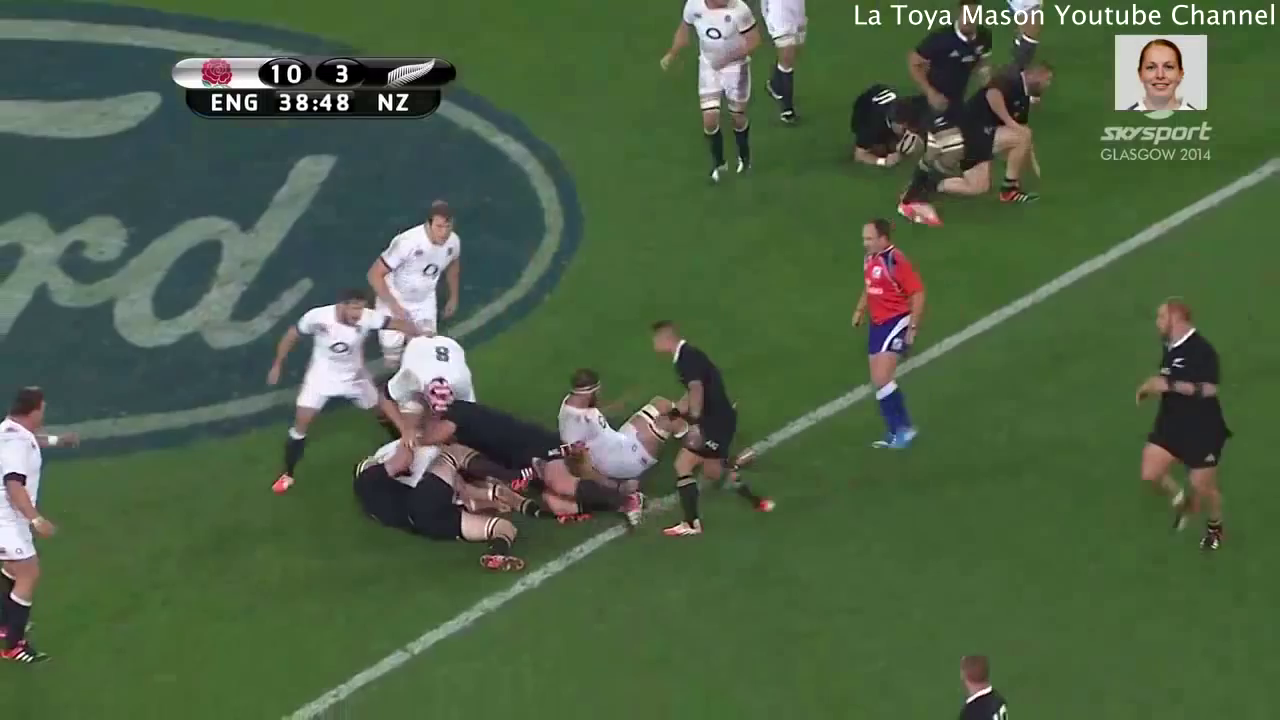player: (1124, 291, 1252, 562), (256, 283, 396, 502), (874, 4, 997, 222), (651, 321, 772, 541), (1, 369, 86, 666), (842, 212, 932, 455), (661, 1, 761, 183), (960, 64, 1057, 208), (364, 196, 460, 335), (555, 364, 677, 467)
ruck: (333, 323, 651, 567)
